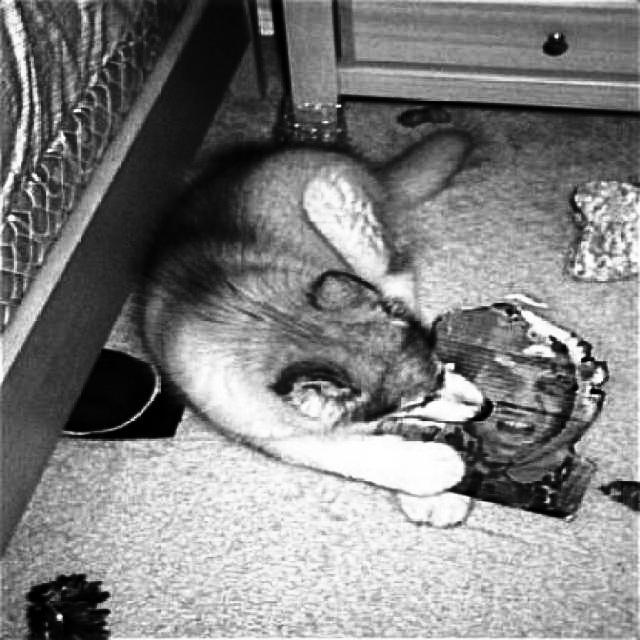Dog: (141, 121, 485, 502)
